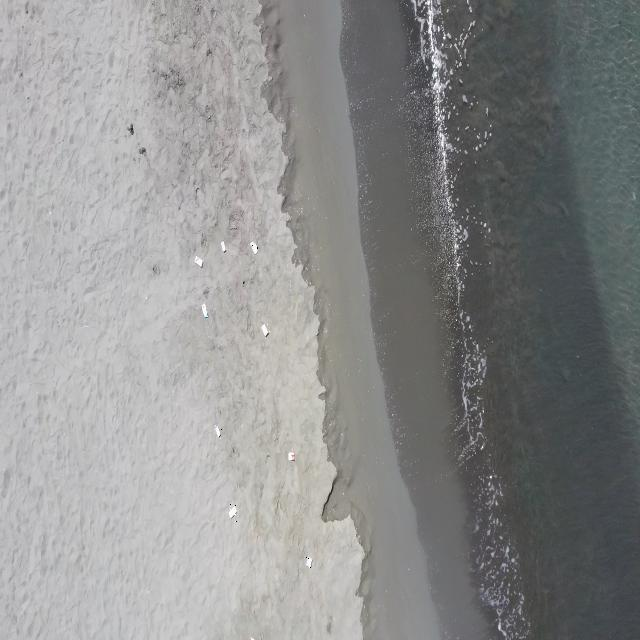Garbage: (200, 303, 207, 318), (260, 323, 268, 336), (193, 255, 201, 267), (228, 504, 236, 516), (304, 555, 312, 567), (213, 424, 220, 436), (249, 240, 256, 252), (220, 240, 226, 252), (287, 451, 295, 460)
